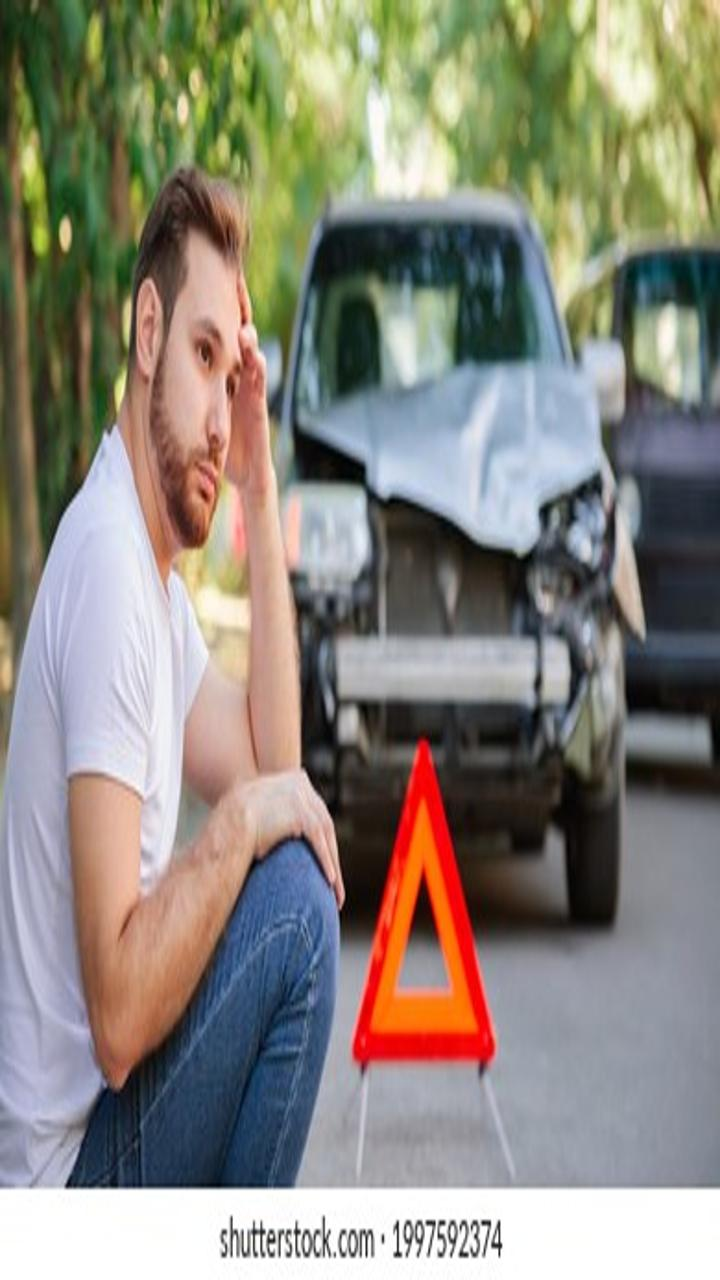Traffic sign: (330, 740, 543, 1093)
pedestrian: (11, 168, 334, 1185)
vehicle: (268, 143, 650, 932)
